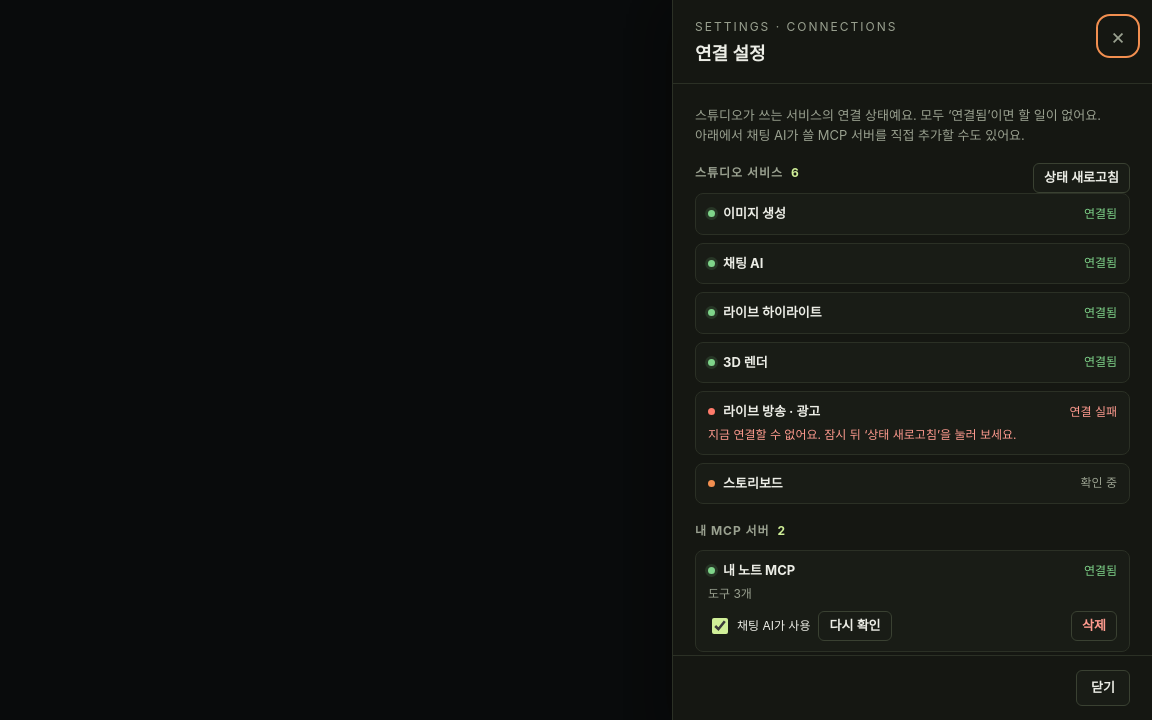
Test case: R20-45 deleting a connection asks first and offers no way back it does not have › asks, deletes on the server at once, then takes the row away and says so, with no 되돌리기
Later steps or results of the test are not shown.
Click the button "삭제". click: click(1094, 626)
box: [1071, 610, 1117, 640]
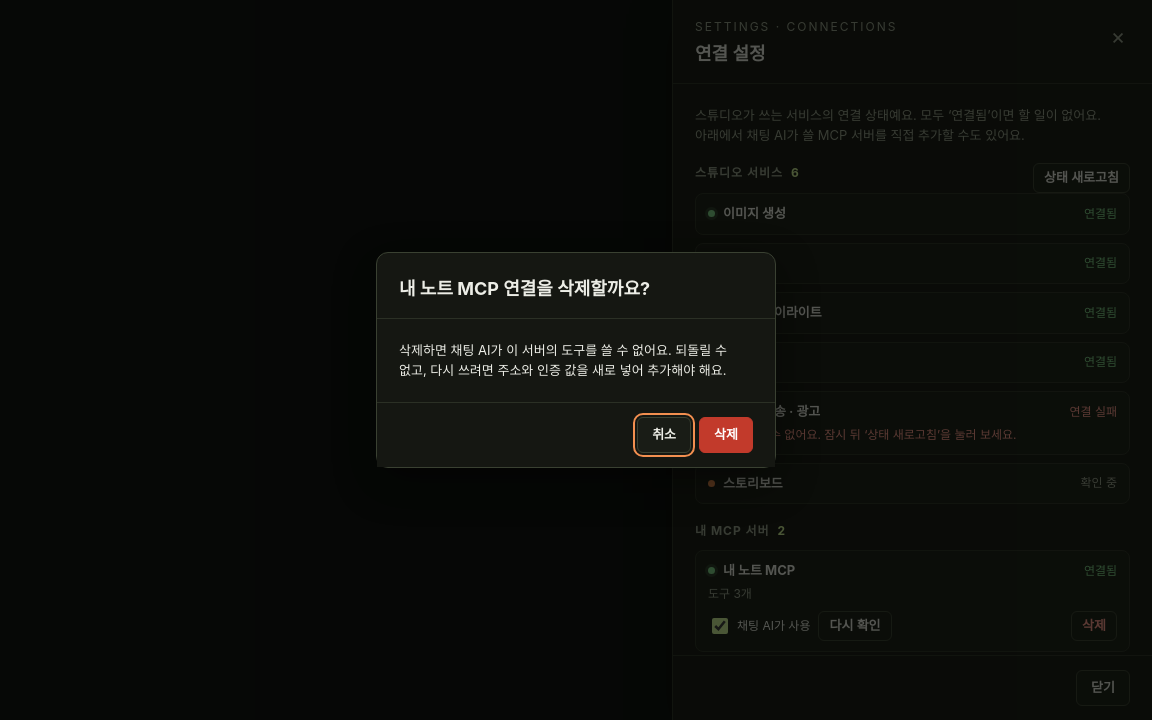
Expected: the heading "내 노트 MCP 연결을 삭제할까요?" is shown, [399, 275, 650, 302]
Expected: the text with class "dialog-lead" reads "삭제하면 채팅 AI가 이 서버의 도구를 쓸 수 없어요. 되돌릴 수 없고, 다시 쓰려면 주소와 인증 값을 새로 넣어 추가해야 해요.", [399, 342, 727, 378]
